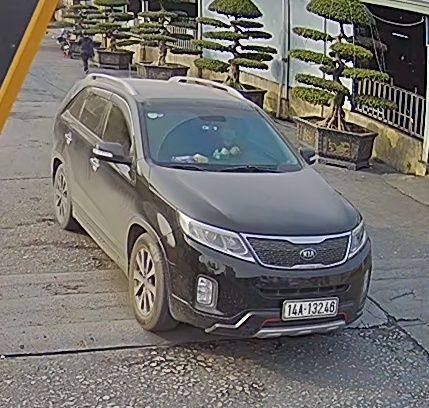vehicle plate: (279, 292, 343, 319)
